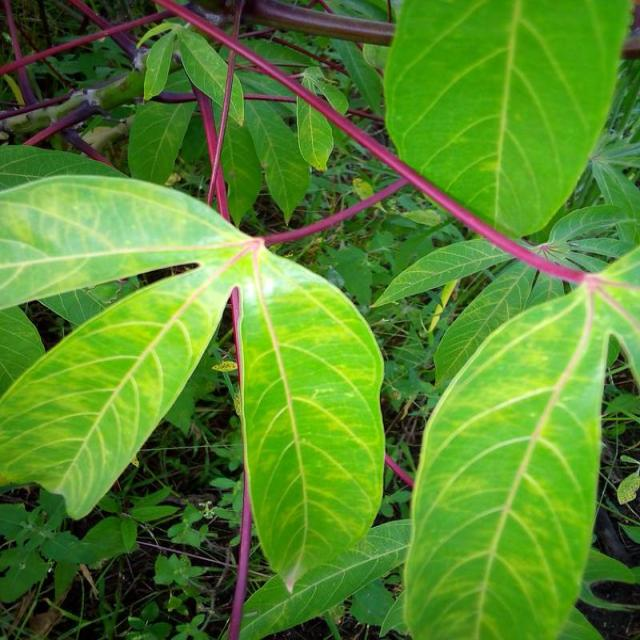cassava leaf: (1, 167, 386, 591), (402, 244, 640, 638), (383, 0, 633, 241), (233, 244, 387, 592)
